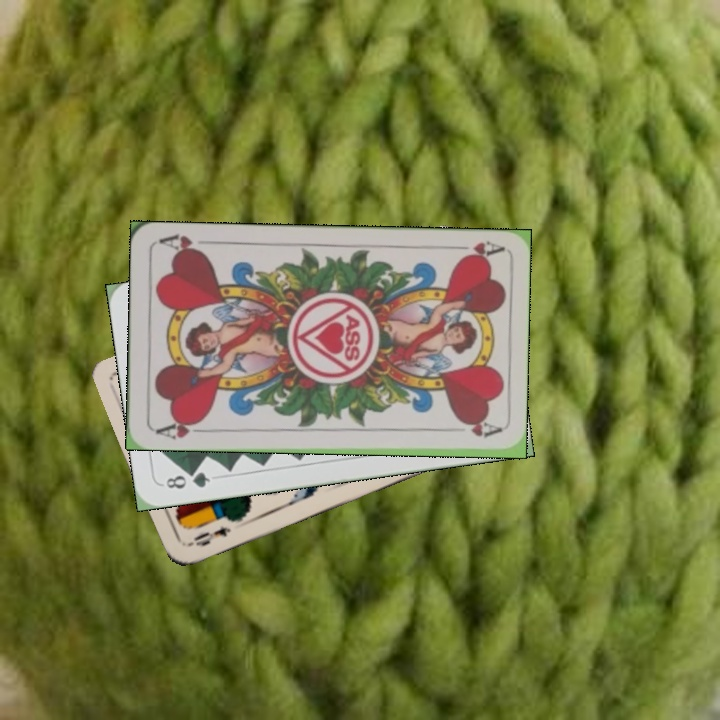EO: (183, 522, 234, 550)
G8: (161, 467, 213, 492)
HA: (152, 415, 210, 442), (445, 237, 504, 263)
